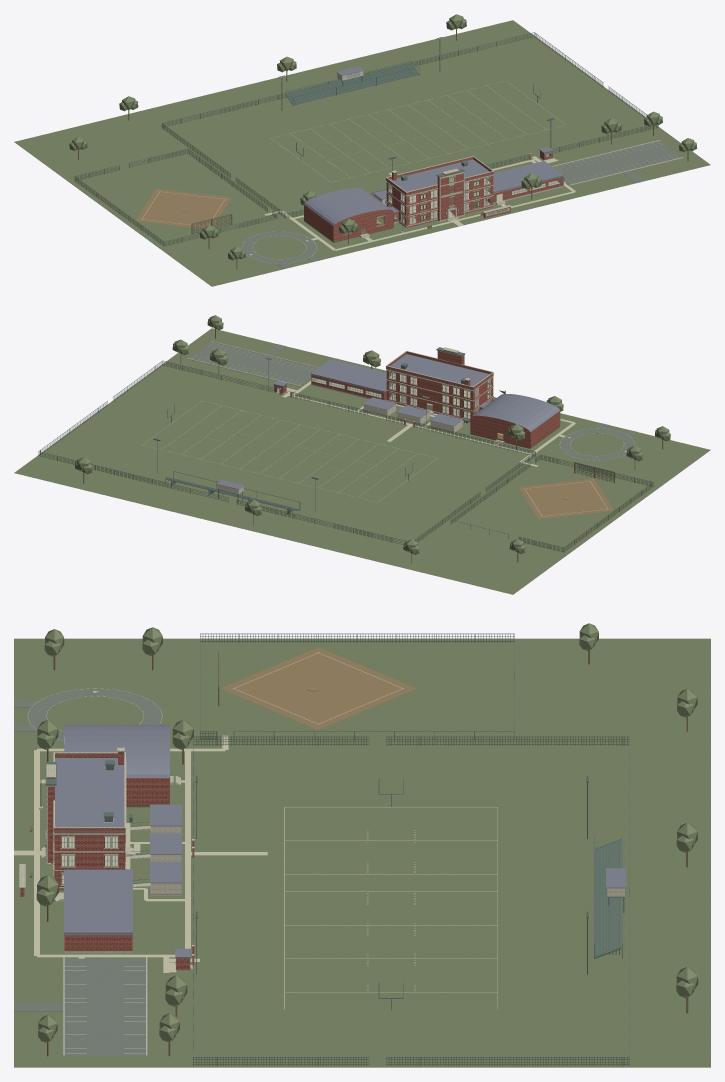
File: lincoln-high-school-1975.glb
3 views of the same model, one above another, from view 1: azimuth 30°, elevation 25°; view 2: azimuth 150°, elevation 25°; view 3: azimuth 270°, elevation 25° (orthographic). The views are drawn at different scales.
Visible parts, largest first — view 1: lot__ground_grass, football_field__ground_grass, school_1925__wall_brick, baseball_diamond__ground_sport, student_parking__ground_sport, field_fence__glass_windows, school_1925__wall_stone, steel_bleachers__detail_metal, gymnasium__roof_membrane, gymnasium__wall_brick, baseball_fence__glass_windows, school_1925__roof_membrane (+8 smaller); view 2: lot__ground_grass, football_field__ground_grass, school_1925__wall_brick, field_fence__glass_windows, baseball_diamond__ground_sport, student_parking__ground_sport, school_1925__wall_stone, gymnasium__roof_membrane, gymnasium__wall_brick, school_1925__roof_membrane, modern_wing__roof_membrane, baseball_fence__glass_windows (+8 smaller); view 3: lot__ground_grass, football_field__ground_grass, baseball_diamond__ground_sport, student_parking__ground_sport, school_1925__roof_membrane, modern_wing__roof_membrane, campus_paths__ground_sport, field_fence__glass_windows, gymnasium__roof_membrane, school_1925__wall_brick, steel_bleachers__detail_metal, bus_loop__ground_sport (+10 smaller).
Part boxes in pixels (box(x1,y1,x2,y2)): lot__ground_grass: box(14, 20, 710, 286); football_field__ground_grass: box(271, 81, 565, 182); school_1925__wall_brick: box(386, 157, 493, 227); baseball_diamond__ground_sport: box(135, 189, 231, 228); student_parking__ground_sport: box(553, 141, 682, 184); field_fence__glass_windows: box(162, 33, 657, 218); school_1925__wall_stone: box(386, 156, 493, 226); steel_bleachers__detail_metal: box(285, 61, 419, 105); gymnasium__roof_membrane: box(304, 187, 391, 225); gymnasium__wall_brick: box(304, 204, 393, 241); baseball_fence__glass_windows: box(75, 149, 276, 246); school_1925__roof_membrane: box(386, 159, 493, 195); lot__ground_grass: box(14, 328, 710, 594); football_field__ground_grass: box(143, 401, 437, 502); school_1925__wall_brick: box(386, 350, 493, 421); field_fence__glass_windows: box(39, 361, 535, 544); baseball_diamond__ground_sport: box(518, 478, 614, 519); student_parking__ground_sport: box(188, 342, 317, 385); school_1925__wall_stone: box(386, 347, 493, 420); gymnasium__roof_membrane: box(472, 394, 559, 432); gymnasium__wall_brick: box(470, 411, 560, 447); school_1925__roof_membrane: box(386, 354, 491, 389); modern_wing__roof_membrane: box(310, 359, 391, 392); baseball_fence__glass_windows: box(451, 455, 652, 551); lot__ground_grass: box(14, 638, 710, 1067); football_field__ground_grass: box(285, 807, 497, 1009); baseball_diamond__ground_sport: box(221, 647, 415, 729); student_parking__ground_sport: box(64, 958, 145, 1055); school_1925__roof_membrane: box(54, 758, 125, 832); modern_wing__roof_membrane: box(64, 869, 132, 934); campus_paths__ground_sport: box(14, 735, 267, 972); field_fence__glass_windows: box(194, 737, 629, 1065); gymnasium__roof_membrane: box(64, 724, 169, 777); school_1925__wall_brick: box(47, 751, 125, 890); steel_bleachers__detail_metal: box(594, 835, 624, 958); bus_loop__ground_sport: box(14, 688, 162, 740).
Size of what is drawn, in the model's own units: 233 by 20.87 by 160.
Materials: 12 (12 with a texture image).
